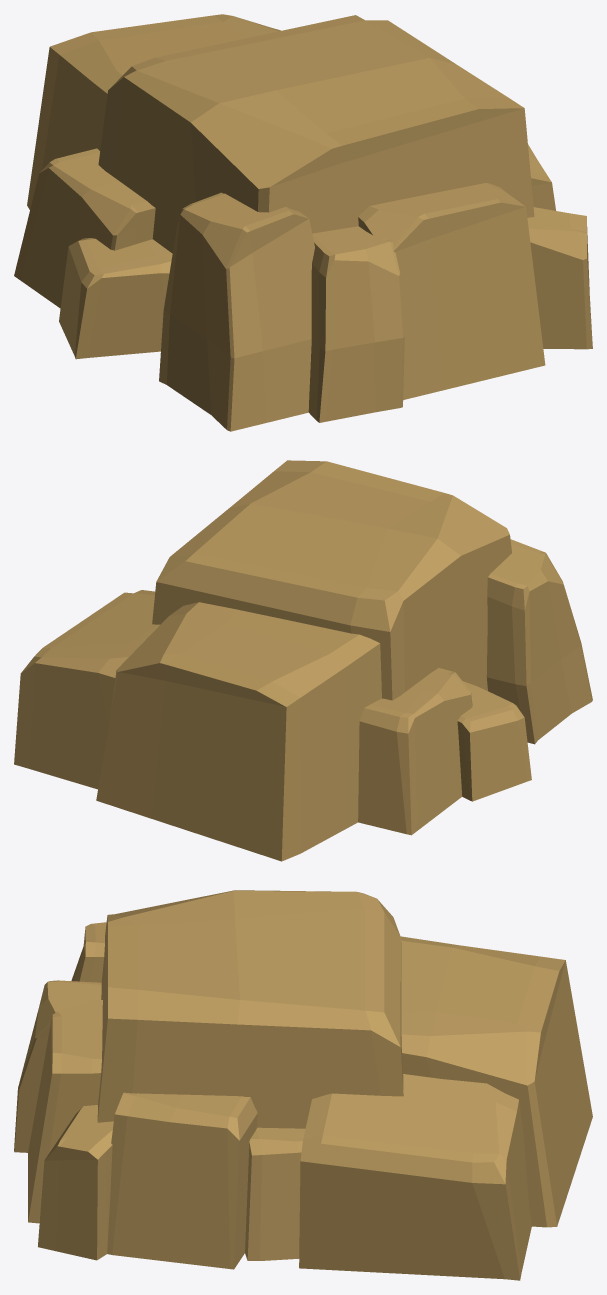
File: Desert_Stone_Mount.fbx
3 views of the same model, one above another, from view 1: azimuth 30°, elevation 25°; view 2: azimuth 150°, elevation 25°; view 3: azimuth 270°, elevation 25° (orthographic). The views are drawn at different scales.
Parts seen in each view (by area): view 1: Desert_Stone_Mount; view 2: Desert_Stone_Mount; view 3: Desert_Stone_Mount.
Boxes of the visible parts, <box> form: Desert_Stone_Mount: <box>14,14,592,431</box>; Desert_Stone_Mount: <box>14,460,592,861</box>; Desert_Stone_Mount: <box>14,890,592,1280</box>.
Size of the model in its own units: 1168 by 1293 by 563.
